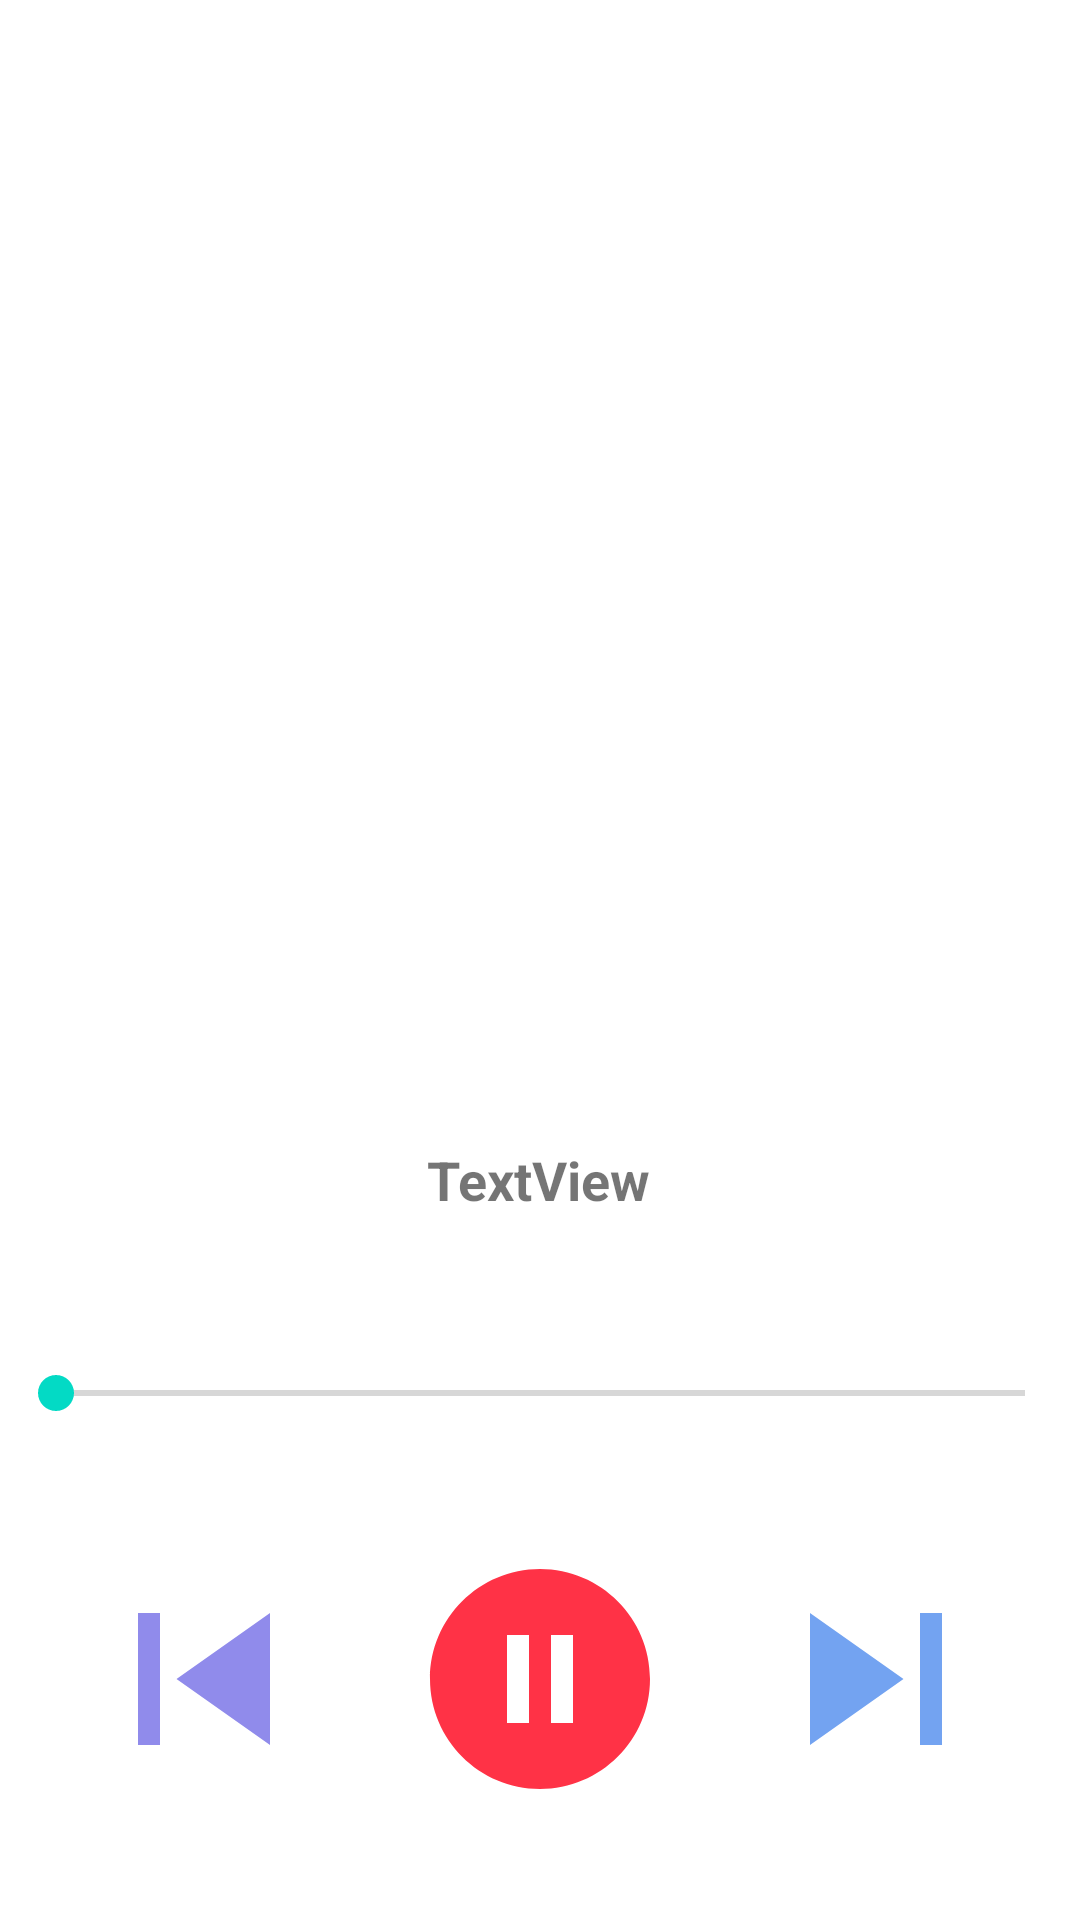

Locate icon controls on the screen. Image size 1080 × 1920, boxes as bbox=(x1, y1, x2, y2).
next: bbox=(810, 1613, 942, 1745)
pause: bbox=(430, 1569, 650, 1789)
previous: bbox=(138, 1613, 270, 1745)
